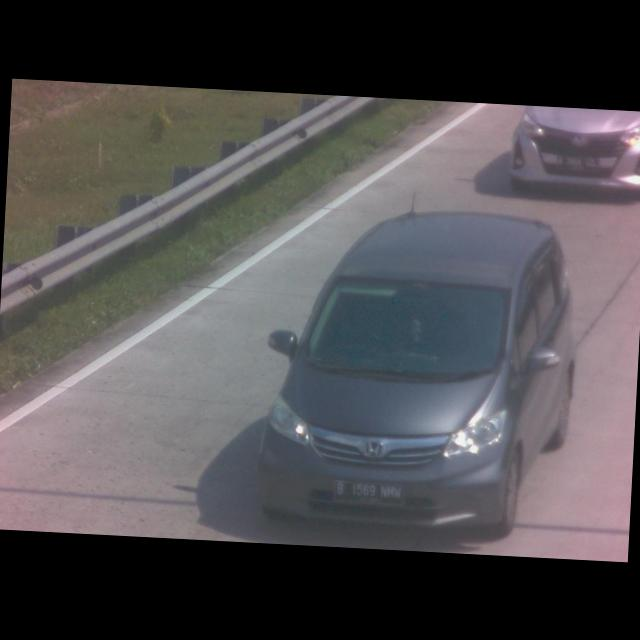plate: (331, 479, 405, 508)
